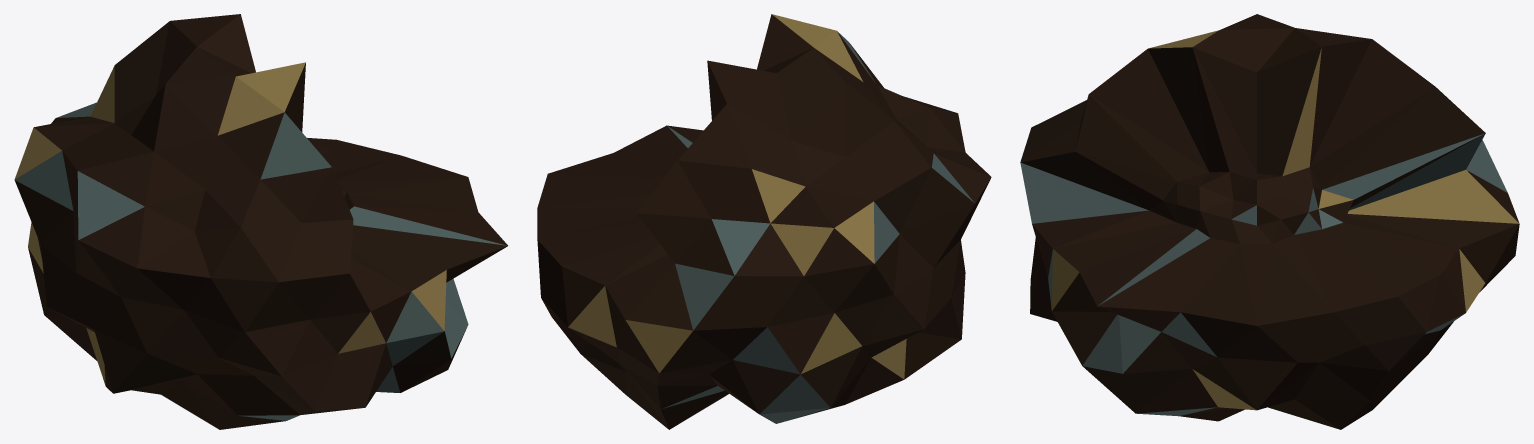
The model's file is SM_MP_Asteroid_Crescent.fbx.
The picture shows the model from 3 angles, left to right: view 1: azimuth 30°, elevation 25°; view 2: azimuth 150°, elevation 25°; view 3: azimuth 270°, elevation 25°; orthographic projection.
Visible parts, largest first — view 1: SM_MP_Asteroid_Crescent; view 2: SM_MP_Asteroid_Crescent; view 3: SM_MP_Asteroid_Crescent.
Part boxes in pixels (x1,y1,x2,y2): SM_MP_Asteroid_Crescent: (14,14,507,429); SM_MP_Asteroid_Crescent: (537,14,991,429); SM_MP_Asteroid_Crescent: (1020,14,1519,429).
Size of the model in its own units: 1782 by 1885 by 1511.
Materials: 1 (1 with a texture image).
